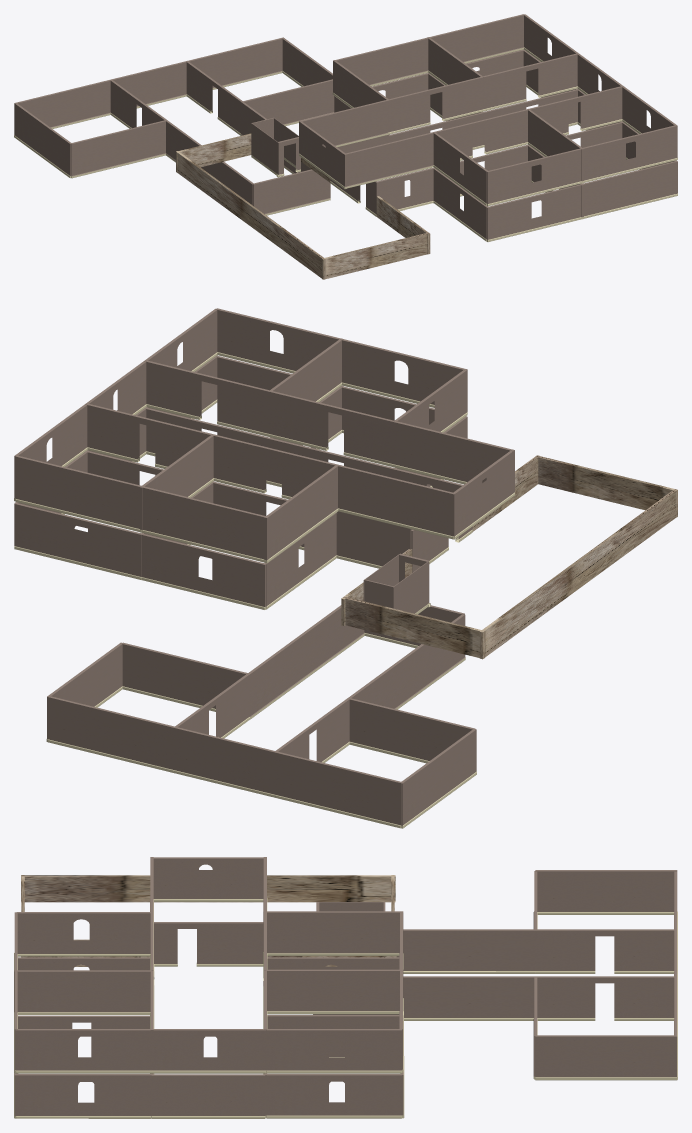
The model's file is Walls.fbx.
3 views of the same model, one above another, from view 1: azimuth 30°, elevation 25°; view 2: azimuth 150°, elevation 25°; view 3: azimuth 270°, elevation 25° (orthographic). The views are drawn at different scales.
Visible parts, largest first — view 1: wall; view 2: wall; view 3: wall.
Boxes of the visible parts, bbox=[...] form: wall: bbox=[14, 14, 677, 279]; wall: bbox=[14, 308, 677, 828]; wall: bbox=[14, 857, 677, 1118].
Bounding box in the file's own units: 20277 × 5029 × 22797.
